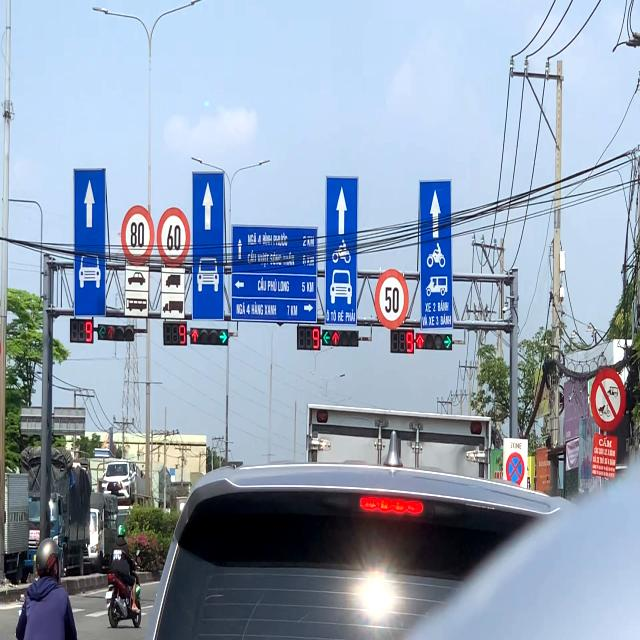P.127: (374, 267, 408, 333), (158, 206, 191, 268), (122, 203, 154, 265)
P.130: (505, 451, 525, 488)
